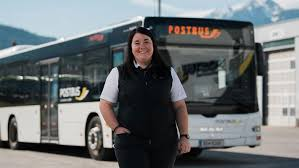bus: (1, 15, 266, 161)
